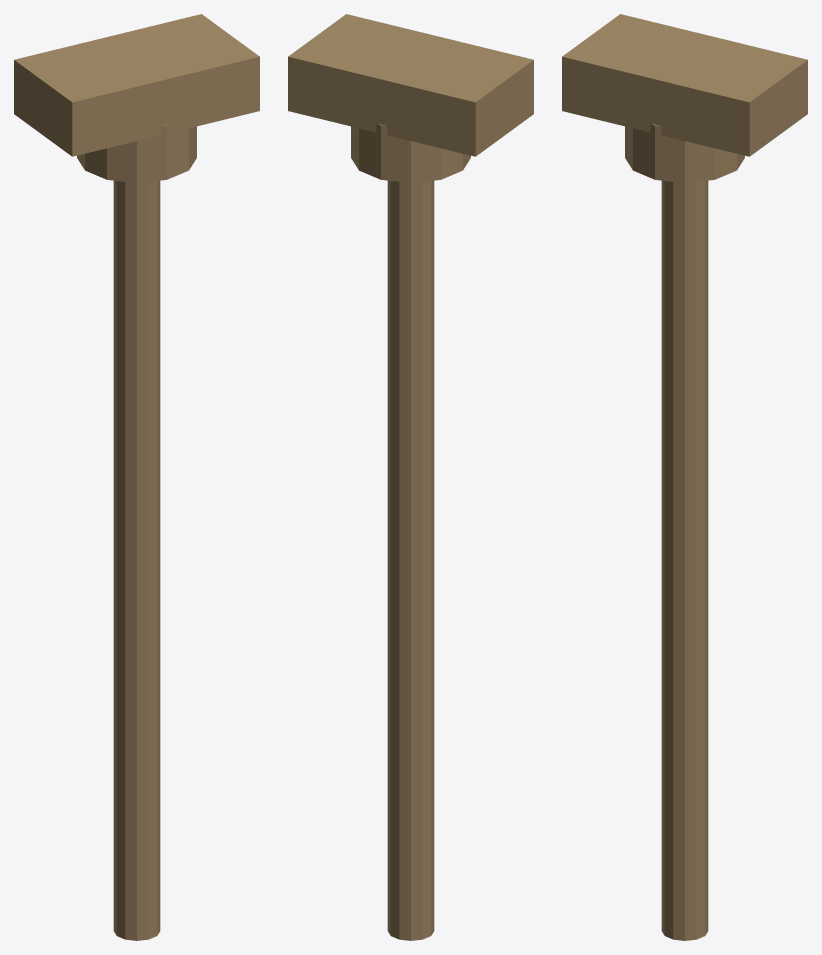
The model's file is StreetLamp.obj.
3 views of the same model, side by side, from view 1: azimuth 30°, elevation 25°; view 2: azimuth 150°, elevation 25°; view 3: azimuth 330°, elevation 25° (orthographic).
Parts seen in each view (by area): view 1: StreetLamp; view 2: StreetLamp; view 3: StreetLamp.
Part boxes in pixels (box(x1,y1,x2,y2)): StreetLamp: box(14, 14, 259, 940); StreetLamp: box(288, 14, 533, 940); StreetLamp: box(562, 14, 807, 940).
Bounding box in the file's own units: 0.65 × 2.89 × 0.36.
